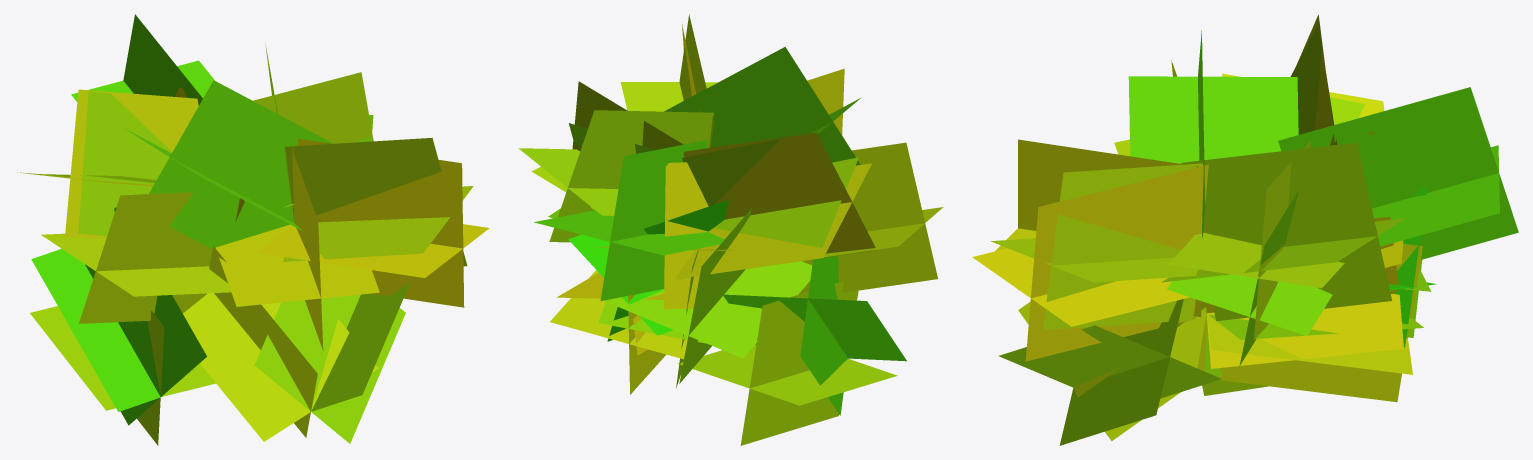
Rendered from bush_big.glb.
3 renders of one model, left to right at view 1: azimuth 30°, elevation 25°; view 2: azimuth 150°, elevation 25°; view 3: azimuth 270°, elevation 25°, orthographic. The views are drawn at different scales.
Parts seen in each view (by area): view 1: Bush3__1_; view 2: Bush3__1_; view 3: Bush3__1_.
Boxes of the visible parts, x1=… form: Bush3__1_: x1=17, y1=14, x2=489, y2=445; Bush3__1_: x1=519, y1=14, x2=943, y2=445; Bush3__1_: x1=972, y1=14, x2=1518, y2=445.
Bounding box in the file's own units: 3.02 × 2.82 × 3.52.
